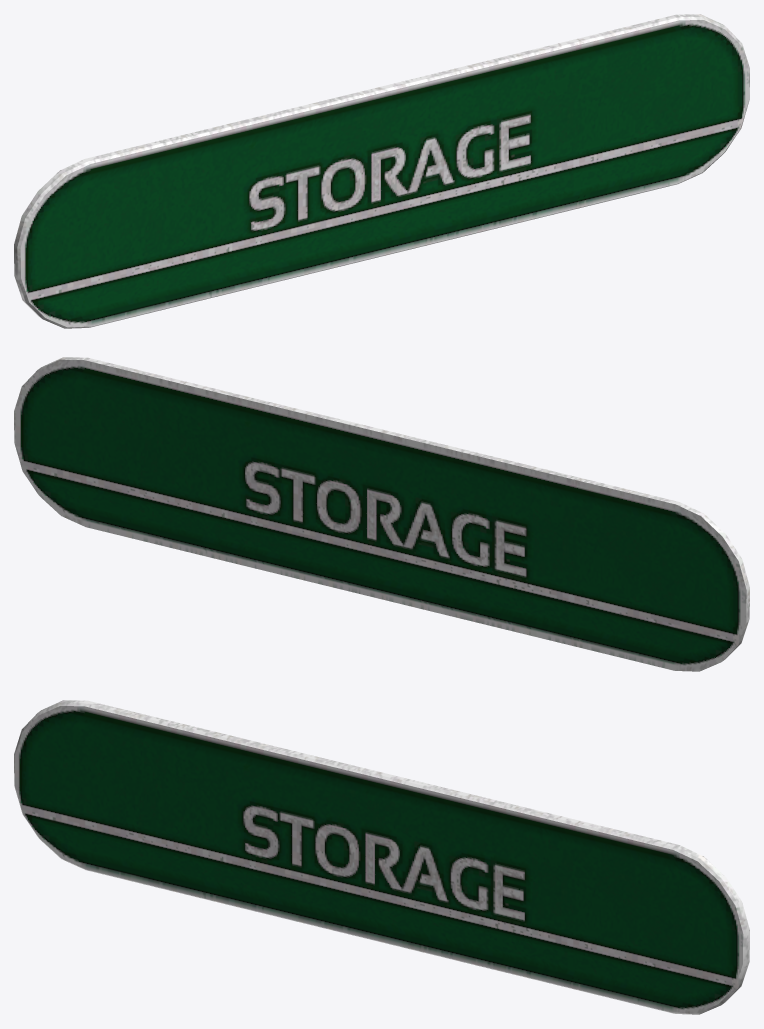
File: sign_direction_storage.dae
The picture shows the model from 3 angles, top to bottom: view 1: azimuth 30°, elevation 25°; view 2: azimuth 150°, elevation 25°; view 3: azimuth 330°, elevation 25°; orthographic projection.
Visible parts, largest first — view 1: storage; view 2: storage; view 3: storage.
Part boxes in pixels (<box>): storage: <box>14,14,749,328</box>; storage: <box>14,357,749,671</box>; storage: <box>14,700,749,1014</box>.
Bounding box in the file's own units: 105 × 22.76 × 1.16.
